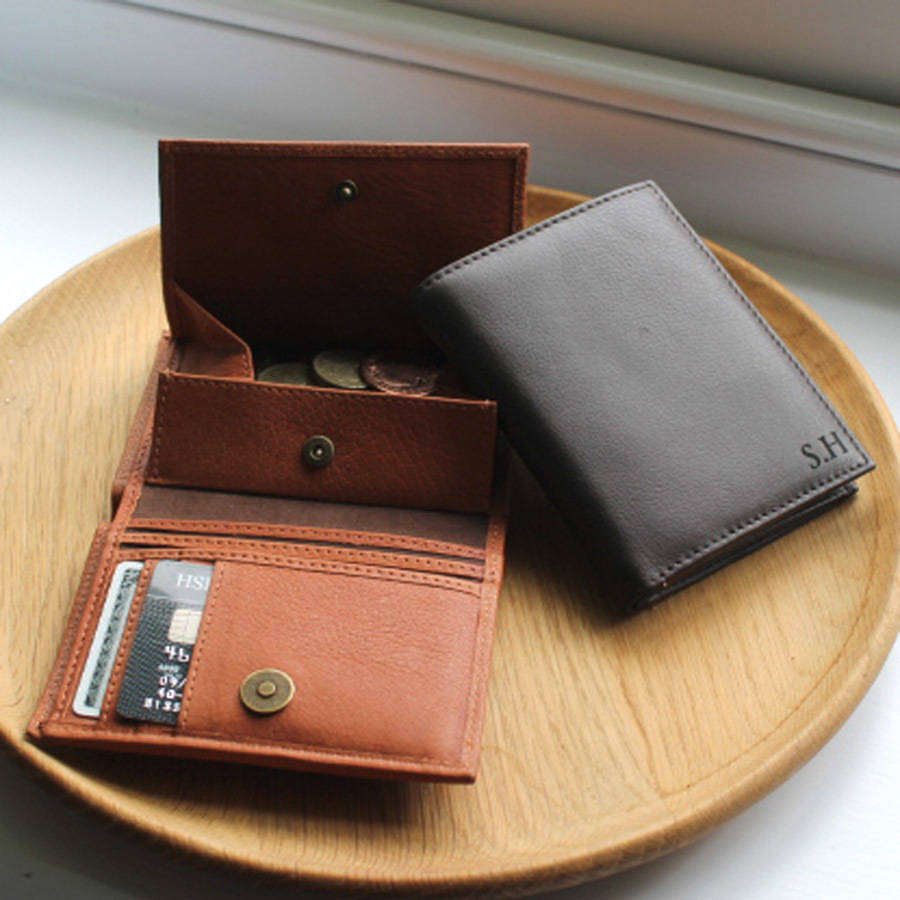monedero: (24, 136, 534, 789), (401, 177, 879, 626)
